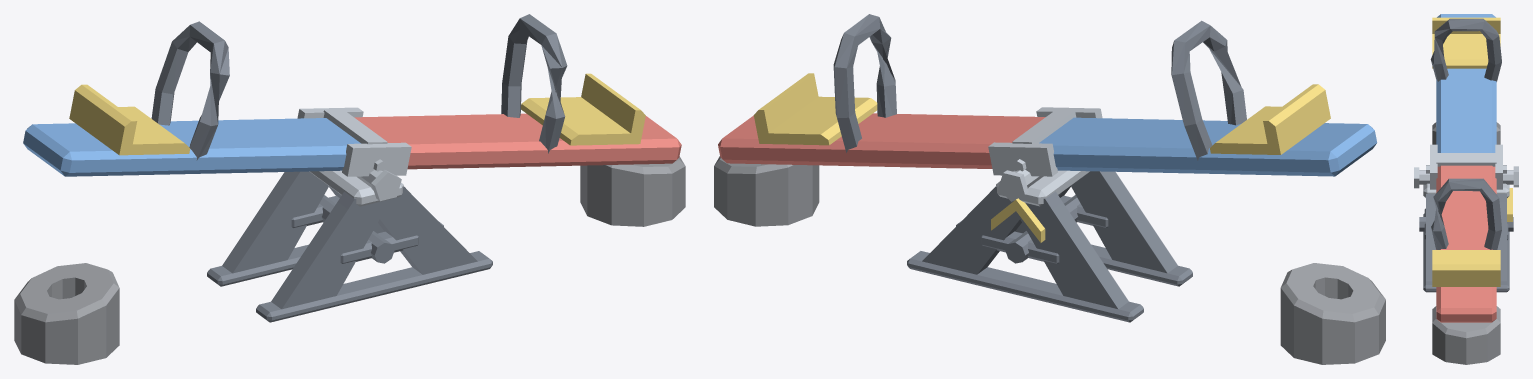
The model's file is Seesaw.fbx.
3 views of the same model, side by side, from view 1: azimuth 30°, elevation 25°; view 2: azimuth 150°, elevation 25°; view 3: azimuth 270°, elevation 25° (orthographic). The views are drawn at different scales.
Visible parts, largest first — view 1: Seesaw.Frame, Seesaw.Bumpers, Seesaw.PlankBeamBlue, Seesaw.PlankBeamRed, Seesaw.PlankSeats, Seesaw.PlankHandles, Seesaw.PlankPivotStrap, Seesaw.Bearing; view 2: Seesaw.Frame, Seesaw.Bumpers, Seesaw.PlankBeamBlue, Seesaw.PlankBeamRed, Seesaw.PlankSeats, Seesaw.PlankHandles, Seesaw.PlankPivotStrap, Seesaw.Bearing, Seesaw.FrameChevron; view 3: Seesaw.PlankBeamRed, Seesaw.PlankBeamBlue, Seesaw.PlankSeats, Seesaw.PlankHandles, Seesaw.Bumpers, Seesaw.Frame, Seesaw.PlankPivotStrap, Seesaw.Bearing, Seesaw.FrameChevron.
Part boxes in pixels (x1,y1,x2,y2): Seesaw.Frame: (207, 171, 492, 322); Seesaw.Bumpers: (14, 156, 685, 364); Seesaw.PlankBeamBlue: (23, 118, 360, 176); Seesaw.PlankBeamRed: (354, 113, 681, 169); Seesaw.PlankSeats: (69, 73, 645, 155); Seesaw.PlankHandles: (151, 14, 567, 160); Seesaw.PlankPivotStrap: (297, 107, 411, 176); Seesaw.Bearing: (309, 169, 403, 206); Seesaw.Frame: (907, 171, 1192, 322); Seesaw.Bumpers: (714, 156, 1385, 364); Seesaw.PlankBeamBlue: (1039, 117, 1377, 176); Seesaw.PlankBeamRed: (718, 113, 1045, 168); Seesaw.PlankSeats: (753, 73, 1330, 154); Seesaw.PlankHandles: (833, 14, 1246, 160); Seesaw.PlankPivotStrap: (988, 107, 1102, 176); Seesaw.Bearing: (996, 169, 1089, 206); Seesaw.FrameChevron: (991, 198, 1045, 242); Seesaw.PlankBeamRed: (1436, 165, 1496, 322); Seesaw.PlankBeamBlue: (1436, 14, 1496, 152); Seesaw.PlankSeats: (1432, 17, 1500, 286); Seesaw.PlankHandles: (1430, 18, 1501, 249); Seesaw.Bumpers: (1432, 122, 1500, 364); Seesaw.Frame: (1419, 193, 1513, 292); Seesaw.PlankPivotStrap: (1426, 144, 1506, 189); Seesaw.Bearing: (1414, 166, 1518, 197); Seesaw.FrameChevron: (1507, 188, 1512, 221).
Bounding box in the file's own units: 7.9 × 3.18 × 1.6.
